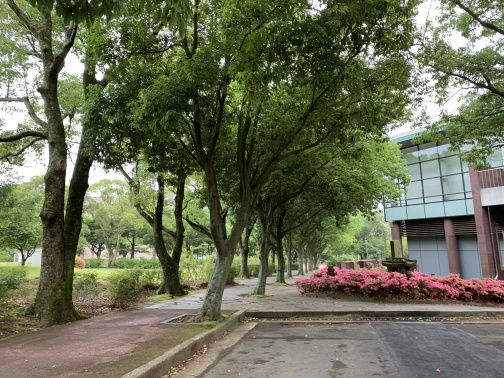Museum: (381, 115, 503, 288)
